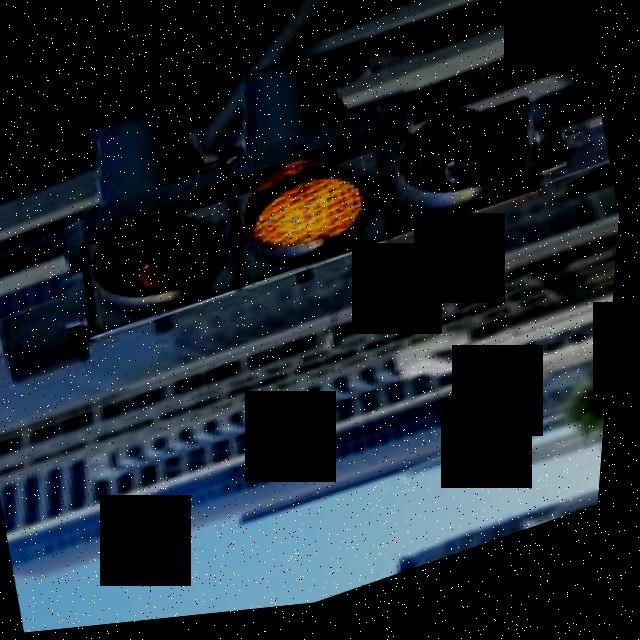yellow: (60, 85, 544, 351)
